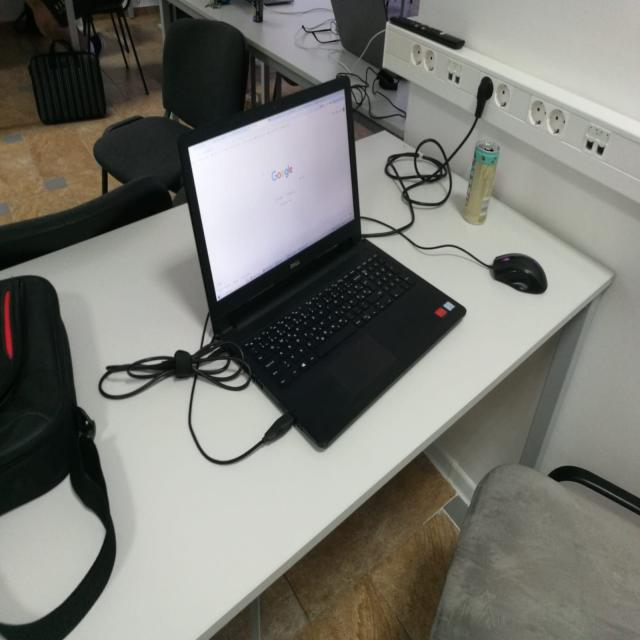Laptops_bbox: (124, 54, 525, 541)
